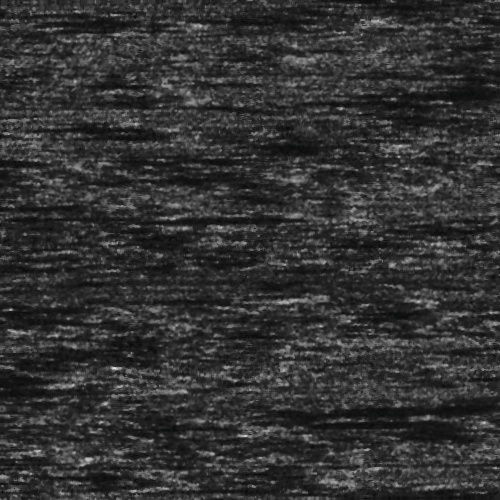object: (98, 382, 191, 391), (319, 13, 392, 22), (277, 215, 370, 222), (465, 421, 500, 424)
shadow: (342, 404, 500, 415), (205, 13, 355, 22), (0, 382, 144, 391), (172, 215, 323, 222), (312, 421, 492, 424), (368, 91, 500, 94), (138, 424, 258, 427)
